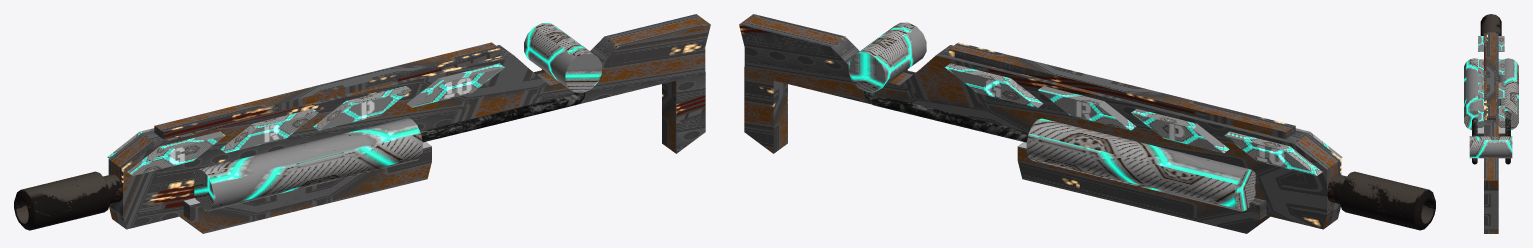
The model's file is Flamethrower.fbx.
3 views of the same model, side by side, from view 1: azimuth 30°, elevation 25°; view 2: azimuth 150°, elevation 25°; view 3: azimuth 270°, elevation 25° (orthographic). The views are drawn at different scales.
Visible parts, largest first — view 1: Cube.136; view 2: Cube.136; view 3: Cube.136.
Part boxes in pixels (x1,y1,x2,y2): Cube.136: [14, 14, 710, 233]; Cube.136: [739, 14, 1435, 233]; Cube.136: [1464, 14, 1518, 233].
Bounding box in the file's own units: 456 × 92.85 × 61.95.
